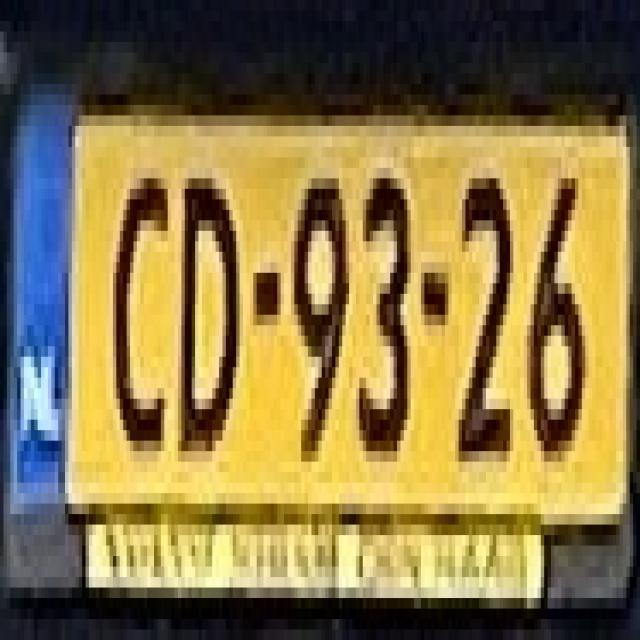2: (442, 146, 520, 452)
3: (346, 136, 422, 452)
6: (516, 147, 592, 441)
9: (280, 146, 350, 452)
C: (102, 147, 172, 441)
D: (171, 158, 240, 452)
